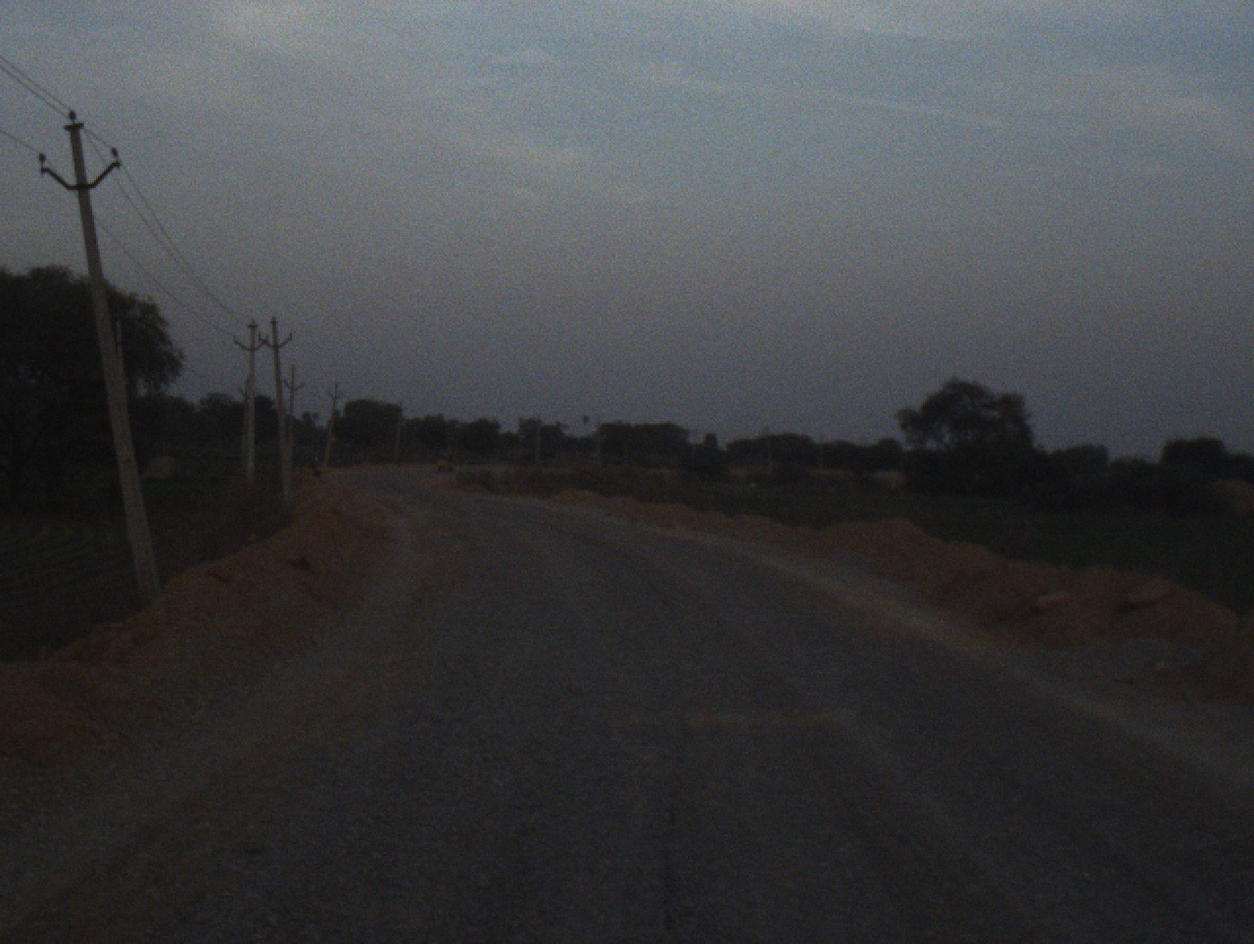autorickshaw: (436, 447, 458, 474)
